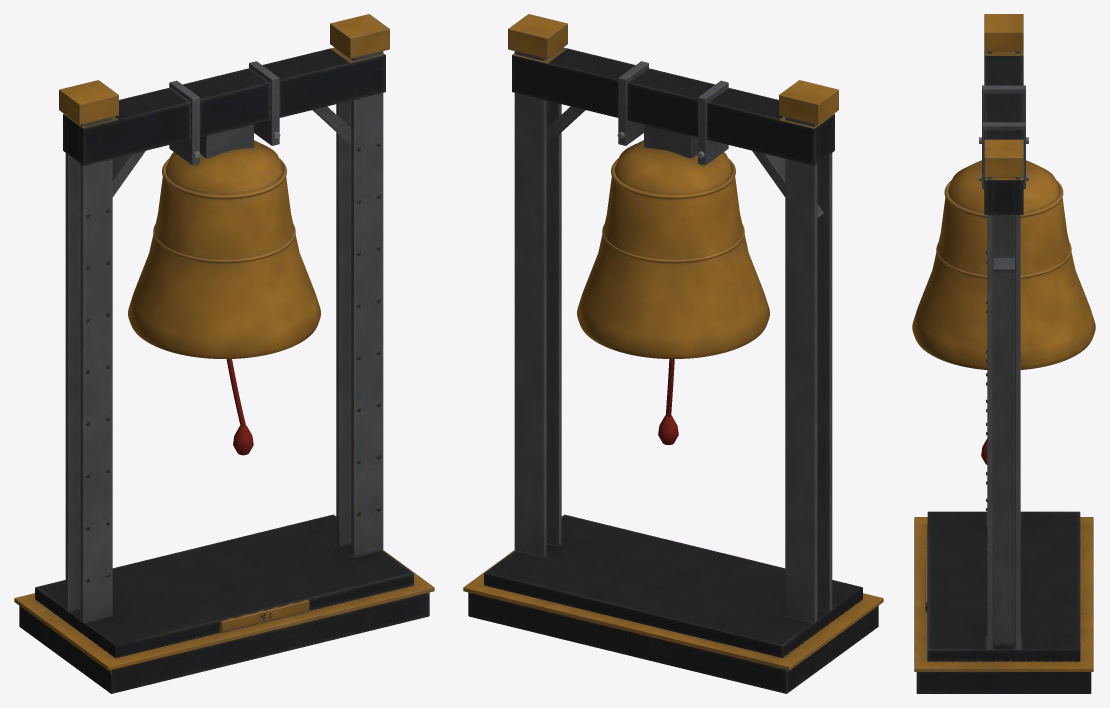
File: floor_bell.glb
3 renders of one model, left to right at view 1: azimuth 30°, elevation 25°; view 2: azimuth 150°, elevation 25°; view 3: azimuth 270°, elevation 25°, orthographic. The views are drawn at different scales.
Visible parts, largest first — view 1: floor_bell; view 2: floor_bell; view 3: floor_bell.
Part boxes in pixels (left/top/right/bottom): floor_bell: left=14, top=14, right=434, bottom=693; floor_bell: left=463, top=14, right=883, bottom=693; floor_bell: left=912, top=14, right=1095, bottom=693.
Size of the model in its own units: 1.64 by 2.7 by 0.84.
1 material, 1 textured.
